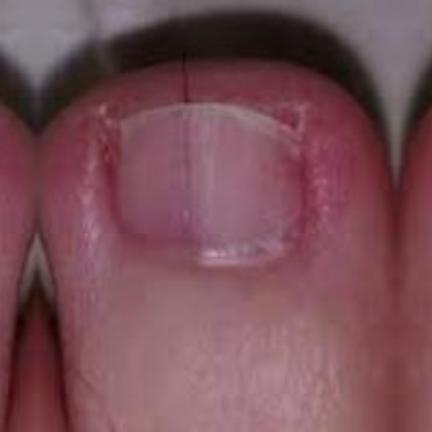Nail: (111, 103, 307, 262)
